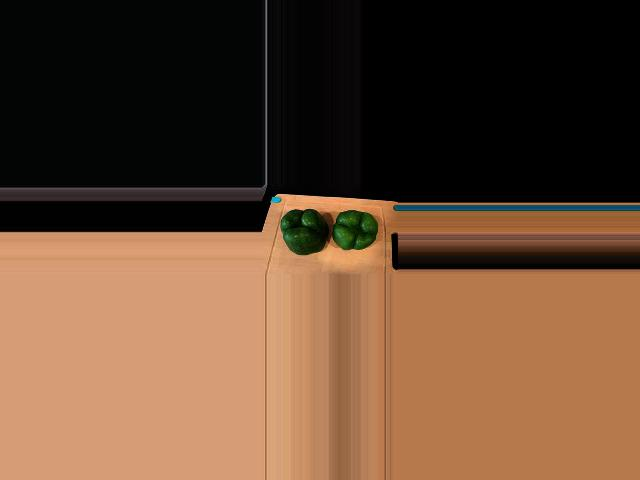bell_pepper: (330, 209, 377, 255)
